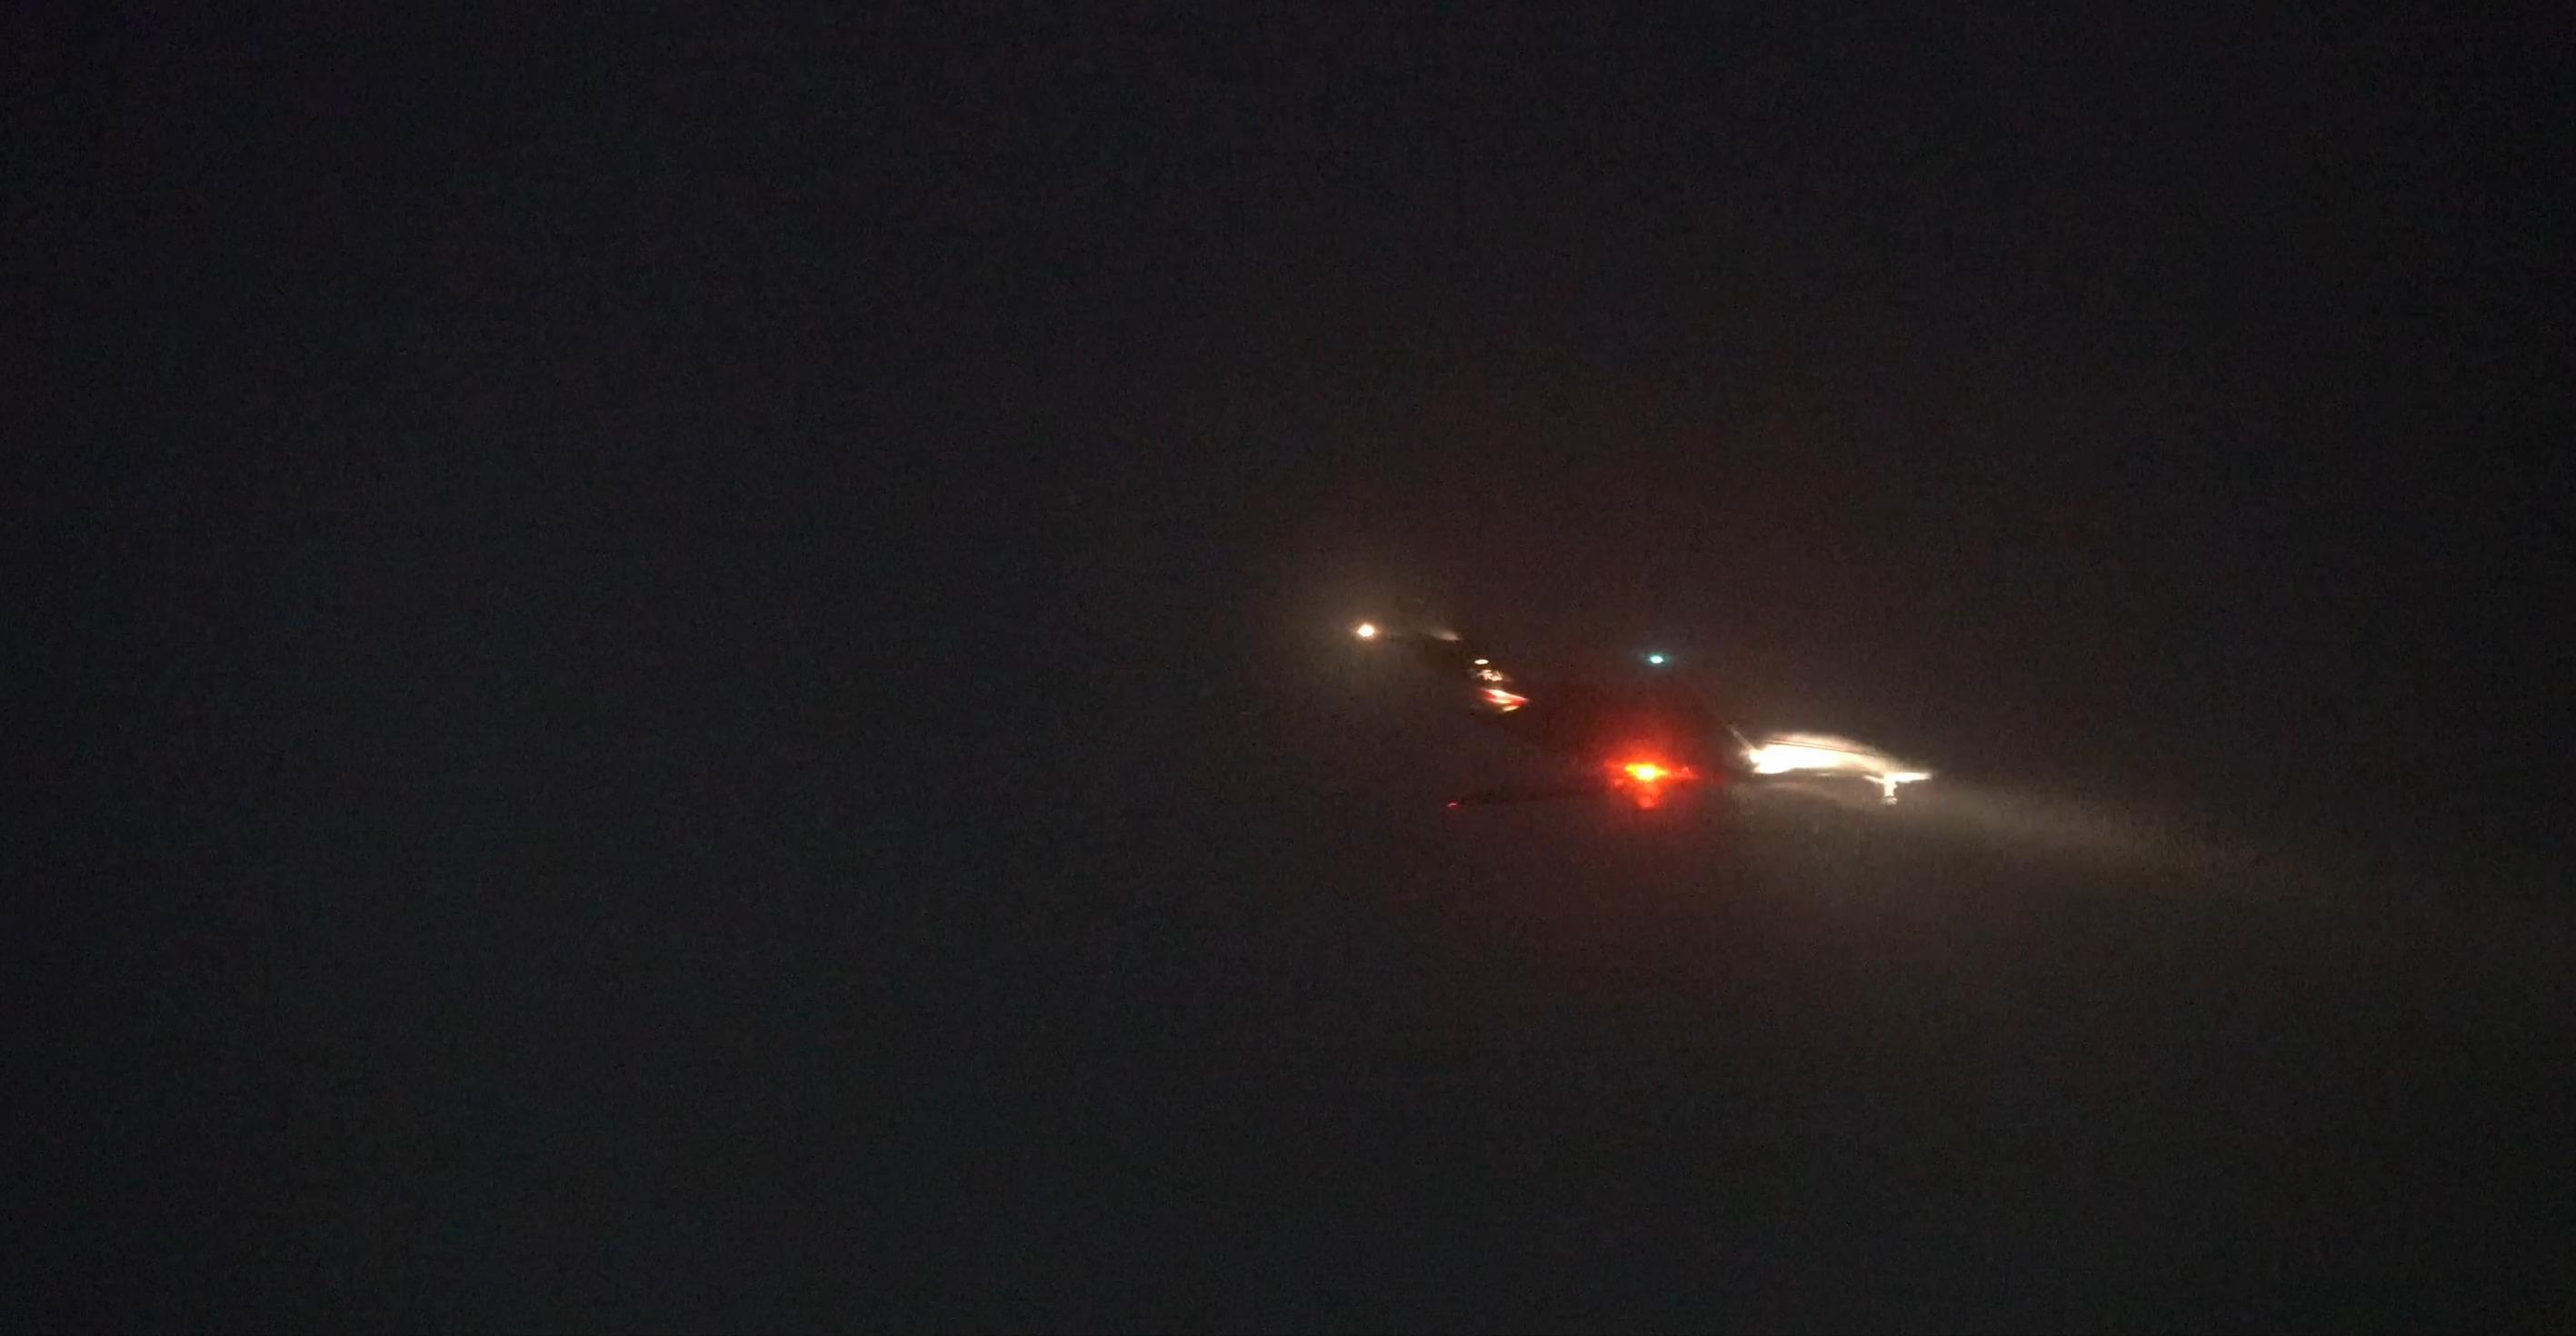Plane: (1290, 538, 1857, 855)
